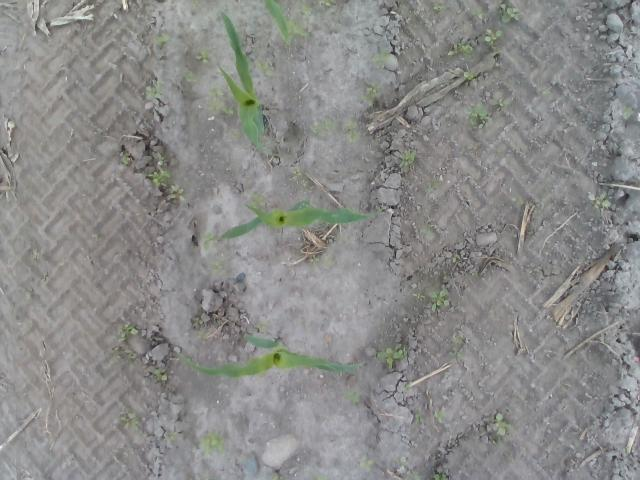Maize: (177, 333, 363, 378), (213, 196, 382, 243), (216, 8, 270, 155), (261, 0, 312, 45)
Weeds: (208, 86, 236, 116), (374, 344, 406, 370), (198, 432, 225, 453), (429, 288, 452, 312), (309, 118, 336, 136), (498, 2, 520, 24), (467, 104, 488, 127), (146, 165, 170, 185), (362, 82, 382, 106), (493, 412, 512, 436), (308, 253, 338, 268), (448, 334, 466, 359), (254, 55, 274, 76), (344, 118, 360, 144), (588, 192, 613, 208), (116, 323, 138, 341), (118, 414, 140, 432), (112, 346, 138, 360), (398, 149, 417, 168), (453, 40, 473, 58), (482, 28, 504, 43), (358, 456, 376, 474), (248, 191, 267, 208), (143, 80, 160, 98), (168, 183, 184, 201), (202, 232, 214, 254), (152, 366, 168, 382), (192, 49, 210, 63), (154, 32, 172, 46), (492, 97, 512, 109), (118, 152, 134, 166), (432, 410, 448, 424), (372, 48, 386, 64), (302, 5, 321, 16), (397, 456, 408, 475), (424, 180, 438, 194), (208, 260, 222, 274), (310, 471, 330, 480), (191, 316, 205, 328), (620, 104, 632, 118), (412, 290, 426, 302), (344, 391, 360, 401), (470, 6, 482, 19), (511, 197, 525, 208), (254, 320, 268, 331), (182, 70, 194, 82), (462, 70, 476, 80), (291, 167, 304, 177), (165, 430, 178, 440), (272, 471, 286, 480), (416, 414, 426, 425), (434, 473, 449, 480), (321, 0, 335, 7), (434, 4, 448, 11), (411, 473, 424, 480), (402, 383, 412, 392), (542, 87, 552, 95), (452, 254, 460, 263)
